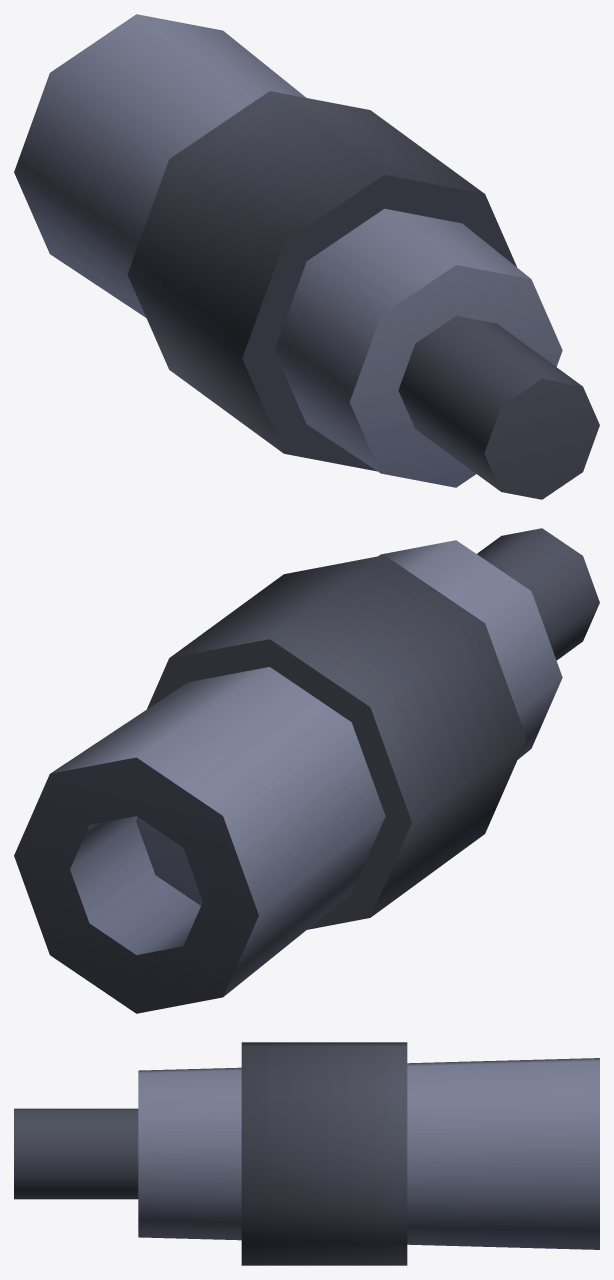
File: silencer-larger.glb
3 views of the same model, one above another, from view 1: azimuth 30°, elevation 25°; view 2: azimuth 150°, elevation 25°; view 3: azimuth 270°, elevation 25° (orthographic). The views are drawn at different scales.
Visible parts, largest first — view 1: silencer-larger; view 2: silencer-larger; view 3: silencer-larger.
Boxes of the visible parts, box(x1,y1,x2,y2) form: silencer-larger: box(14, 14, 599, 499); silencer-larger: box(14, 528, 599, 1013); silencer-larger: box(14, 1042, 599, 1265).
Size of the model in its own units: 0.1146 by 0.1146 by 0.283.
1 material, 1 textured.
